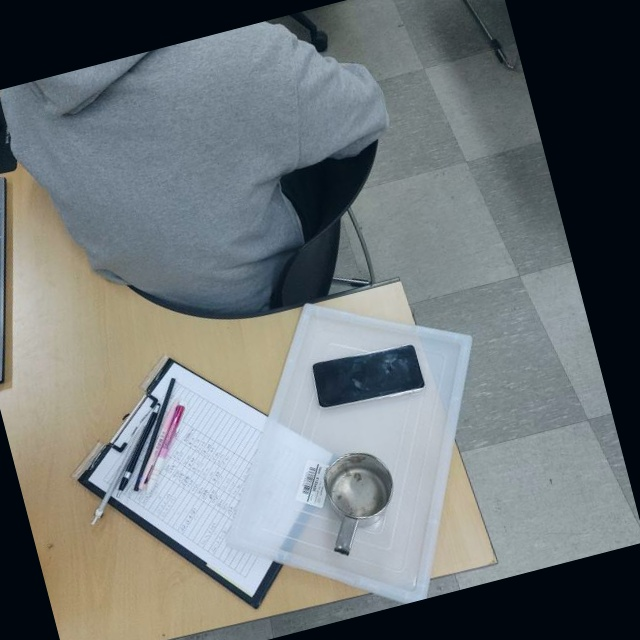cup: (312, 442, 411, 562)
phone: (305, 335, 428, 421)
